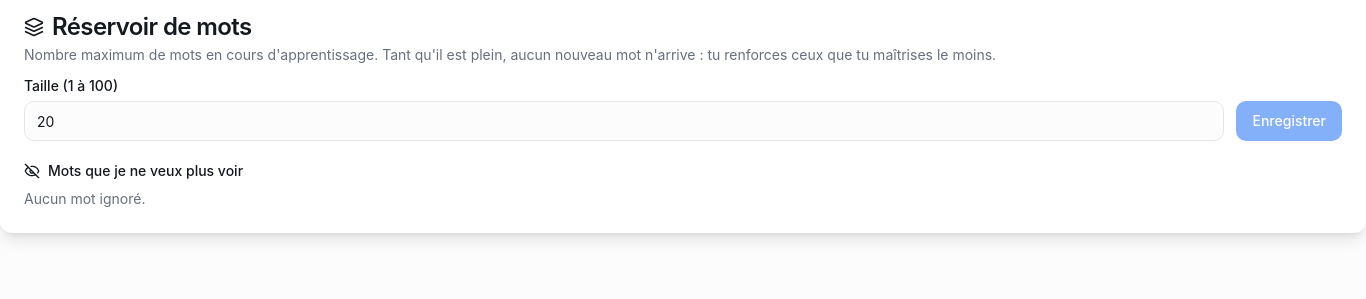
Test: ReservoirSettings — taille › refuse la valeur invalide « 2.5 » (message + bouton désactivé)
Step 1. Replace the text in the number field with test id "reservoir-input" with "2.5" → (624, 121), box [24, 101, 1224, 141]
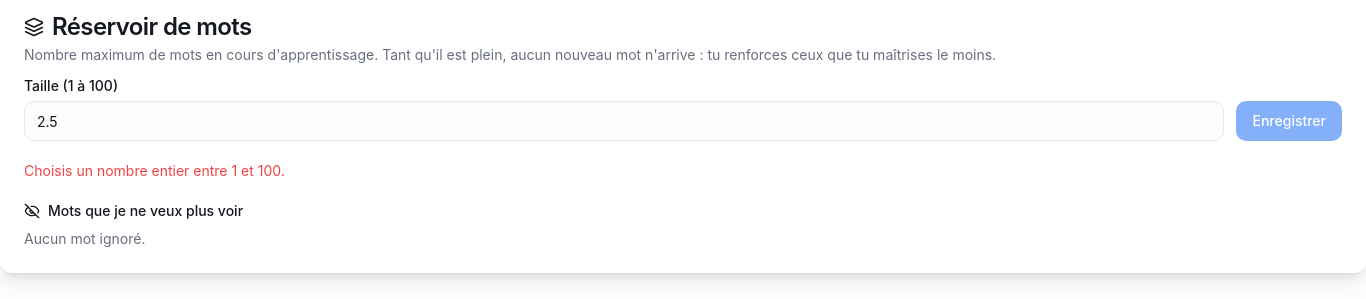
Expected: the button with test id "reservoir-save" is disabled, [1236, 101, 1342, 141]
Result: the text "Choisis un nombre entier entre 1 et 100." is shown at [24, 162, 285, 179]
